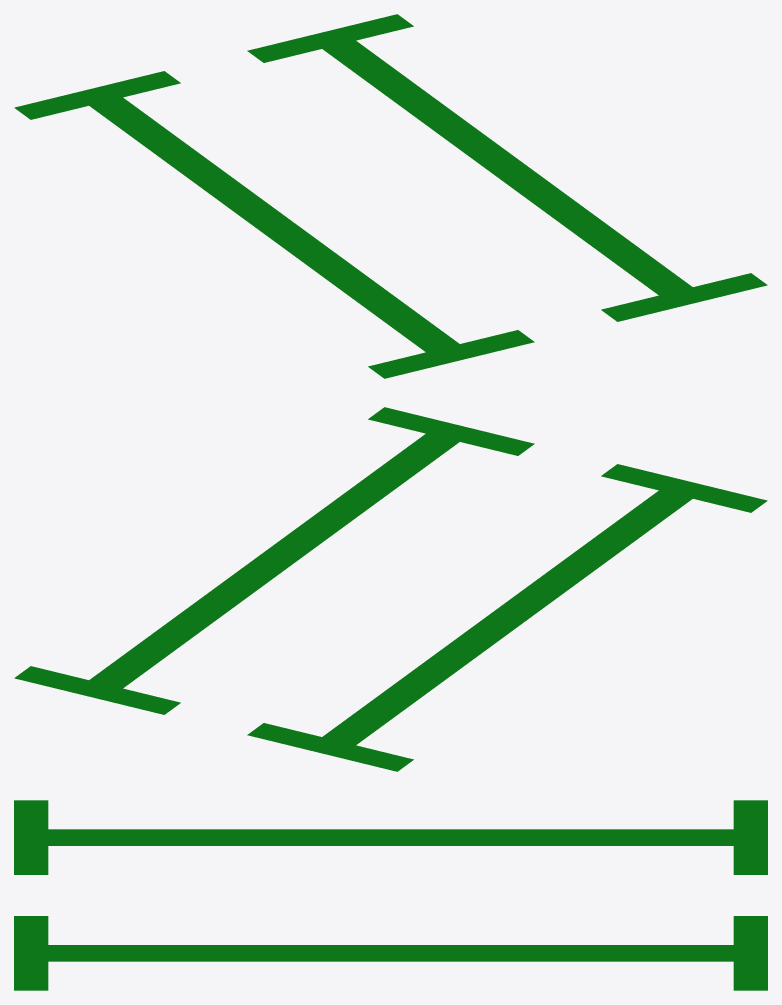
File: two.fbx
The picture shows the model from 3 angles, top to bottom: view 1: azimuth 30°, elevation 25°; view 2: azimuth 150°, elevation 25°; view 3: azimuth 270°, elevation 25°; orthographic projection.
Parts seen in each view (by area): view 1: two; view 2: two; view 3: two.
Boxes of the visible parts, bbox=[...] form: two: bbox=[14, 14, 767, 378]; two: bbox=[14, 407, 767, 771]; two: bbox=[14, 800, 767, 990].
Bounding box in the file's own units: 0.6583 × 2.37e-07 × 1.1.
